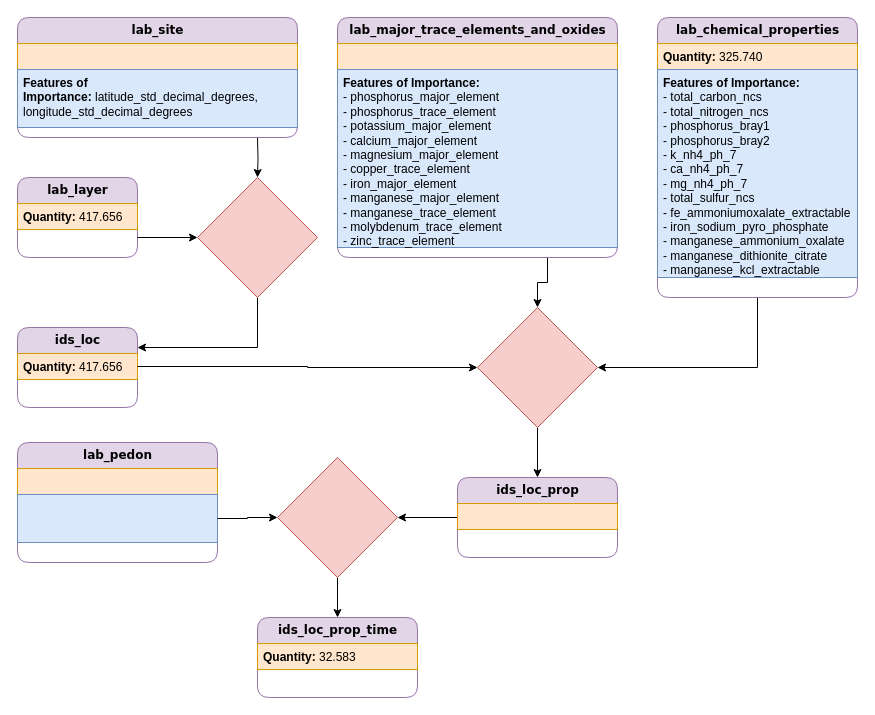
The diagram is 875 pixels wide and 715 high, and some of its shapes have lost their labels. Each missing label, with the centre of its shape:
"1. Merge through site_key" goes at pixel 257 237.
"2. Merge through (labsampnum, layer_key)" goes at pixel 537 367.
"3. Merge through (pedon_key, site_key)" goes at pixel 337 517.
"Features of Importance: - pedlabsampnum - observation_date" goes at pixel 117 518.
"Quantity: 129.650" goes at pixel 157 56.
"Quantity: 32.586" goes at pixel 537 516.
"Quantity: 34.515" goes at pixel 477 56.
"Quantity: 67.384" goes at pixel 117 481.
